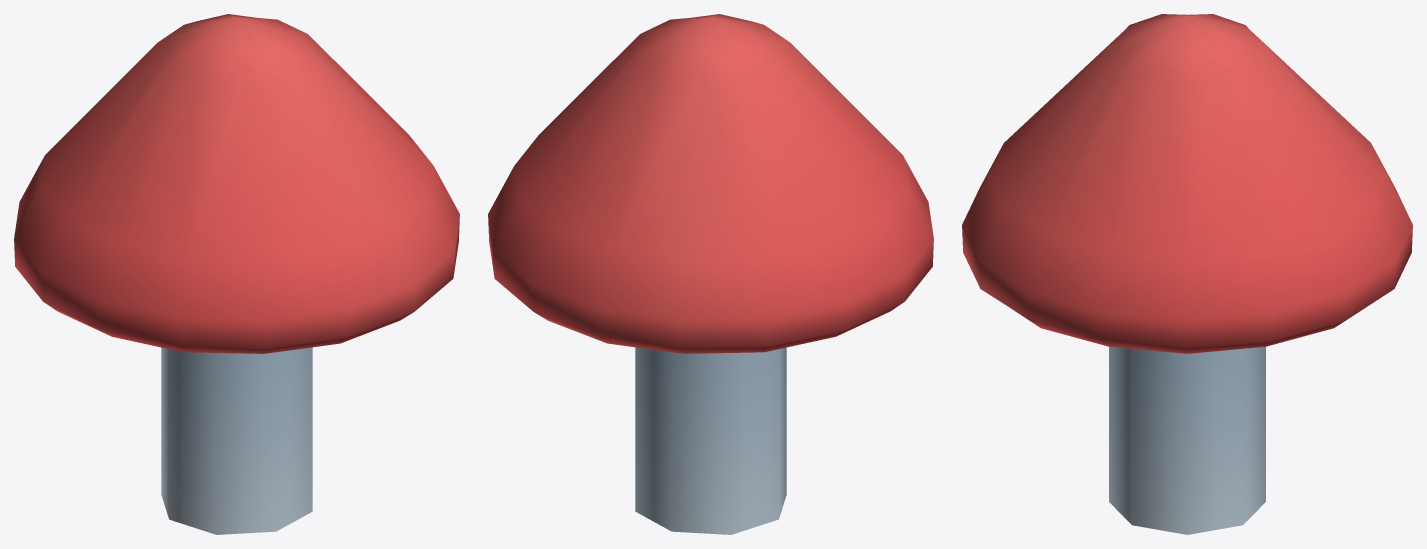
Rendered from Mushroom 1.fbx.
3 views of the same model, side by side, from view 1: azimuth 30°, elevation 25°; view 2: azimuth 150°, elevation 25°; view 3: azimuth 270°, elevation 25° (orthographic).
Parts seen in each view (by area): view 1: Circle.011; view 2: Circle.011; view 3: Circle.011.
Boxes of the visible parts, x1=… form: Circle.011: x1=14, y1=14, x2=459, y2=534; Circle.011: x1=488, y1=14, x2=933, y2=534; Circle.011: x1=962, y1=14, x2=1412, y2=534.
Size of the model in its own units: 61.88 by 73.51 by 61.88.
